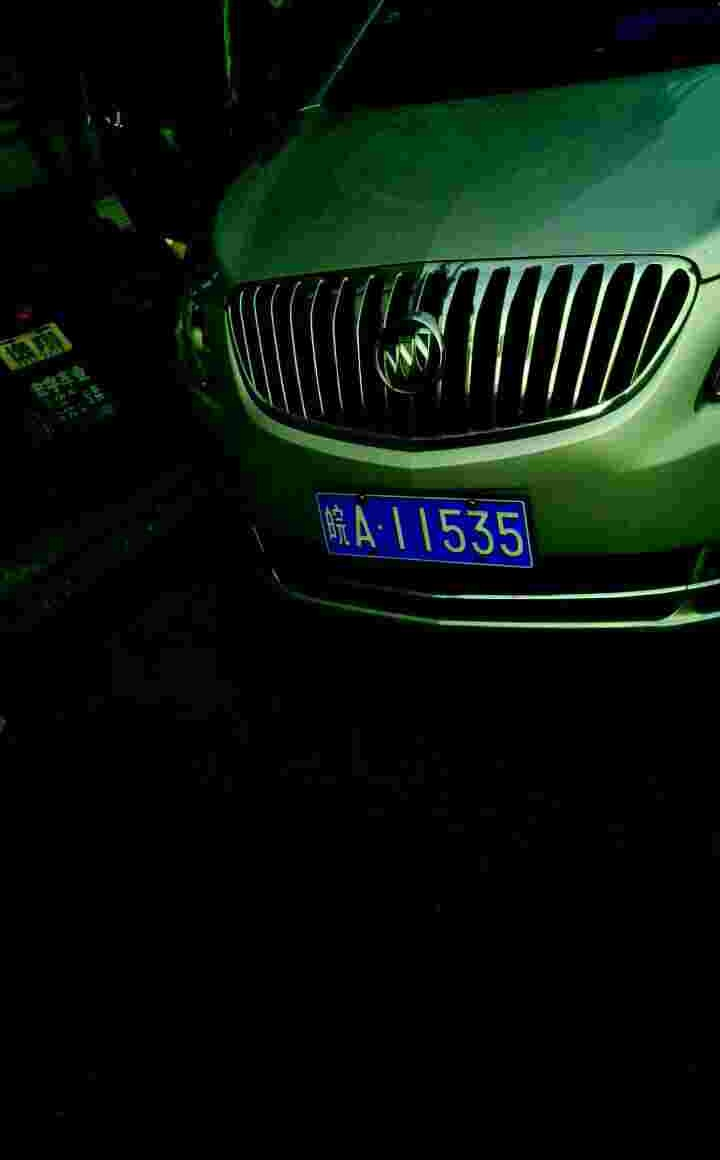license_plate: (314, 483, 548, 575)
